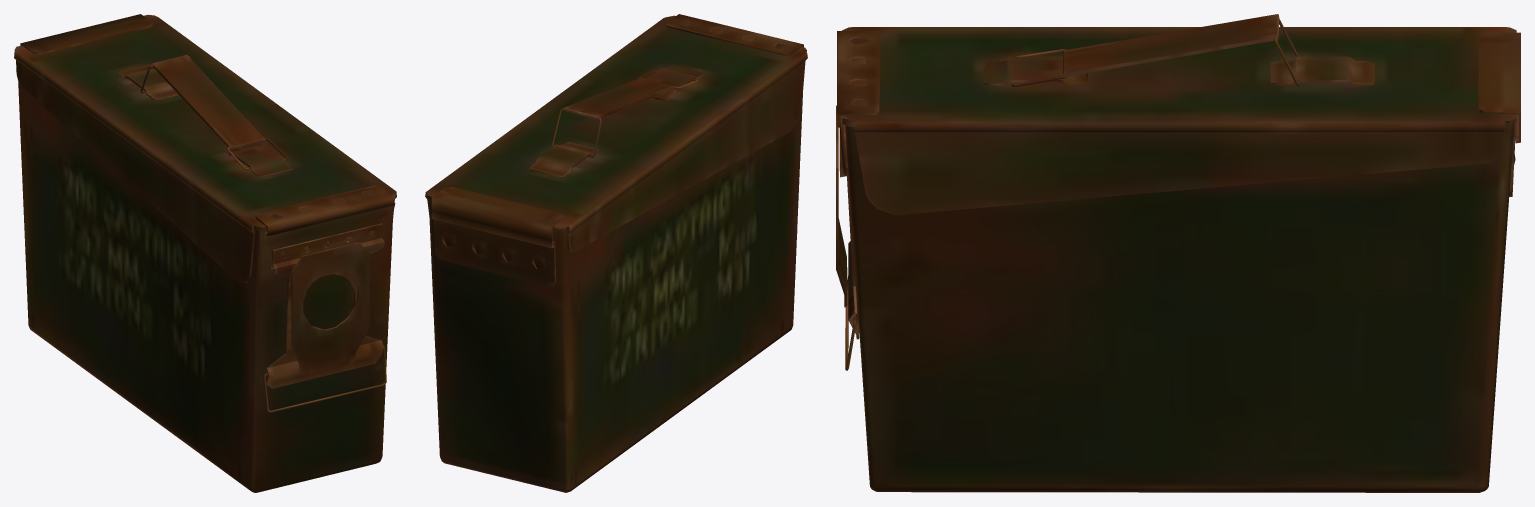
File: cc0_ammo_box.glb
3 views of the same model, side by side, from view 1: azimuth 30°, elevation 25°; view 2: azimuth 150°, elevation 25°; view 3: azimuth 270°, elevation 25° (orthographic). The views are drawn at different scales.
Parts seen in each view (by area): view 1: ammo_box, ammo_box_handle, ammo_box_latch; view 2: ammo_box, ammo_box_handle; view 3: ammo_box, ammo_box_handle.
Boxes of the visible parts, x1,y1,x2,y2 form: ammo_box: (14,14,396,492); ammo_box_handle: (151,54,265,149); ammo_box_latch: (263,345,386,412); ammo_box: (425,14,807,492); ammo_box_handle: (563,78,675,119); ammo_box: (836,27,1520,492); ammo_box_handle: (1063,14,1279,76).
Size of the model in its own units: 0.0865 by 0.1773 by 0.2576.
1 material, 1 textured.
